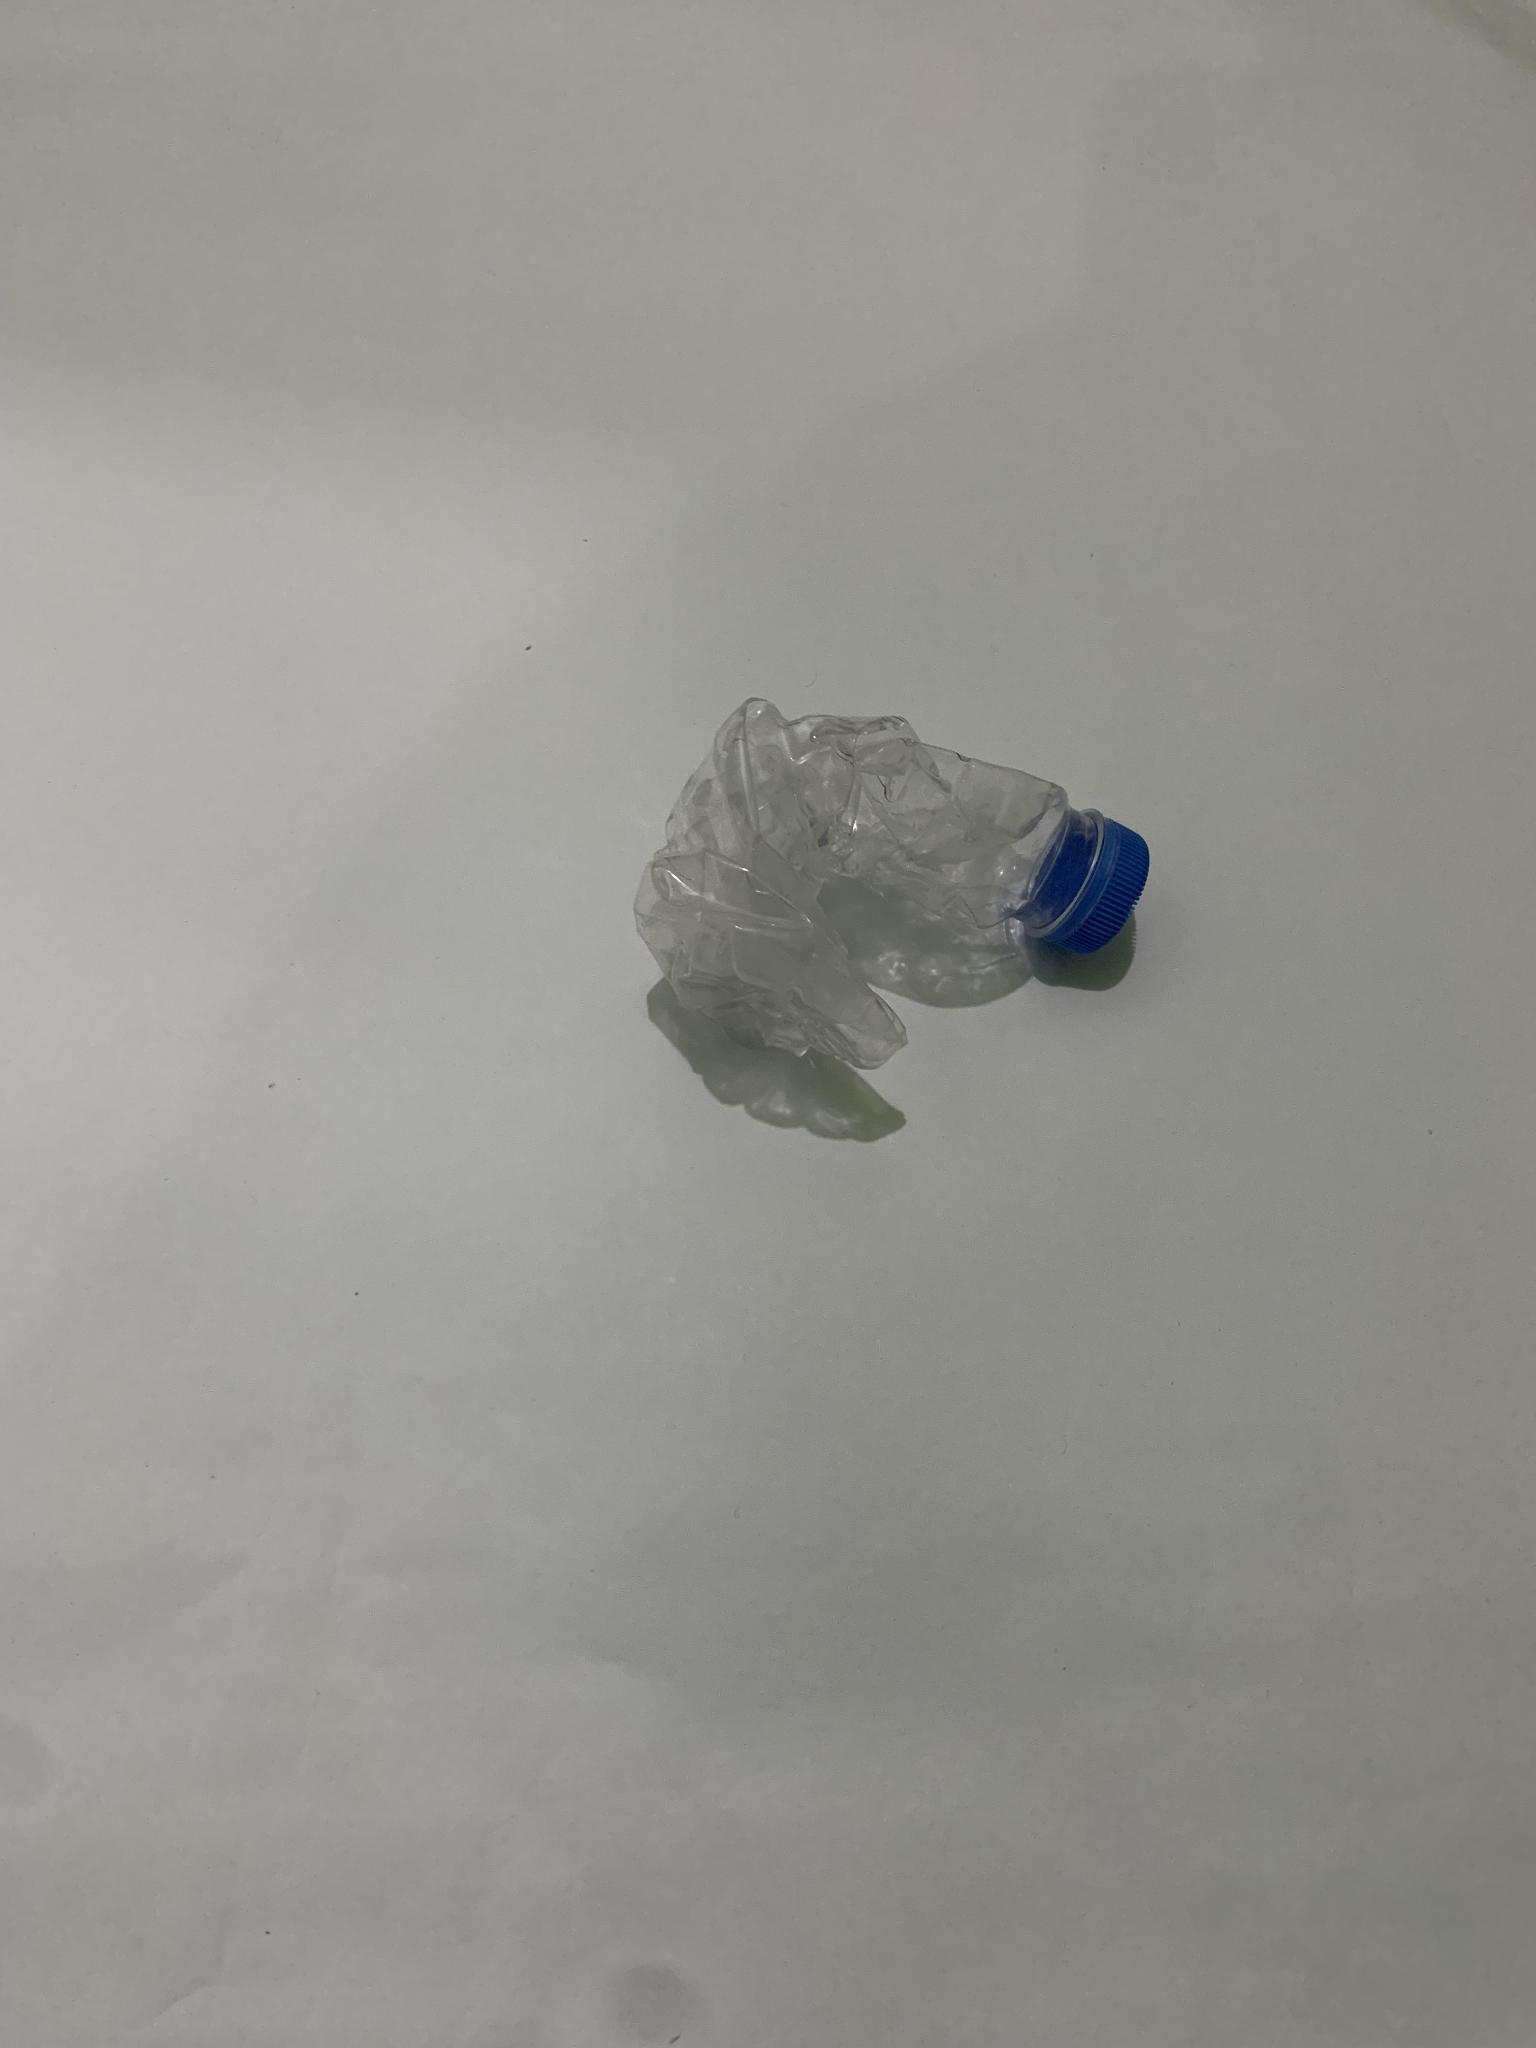bottle: (606, 702, 1186, 1094)
